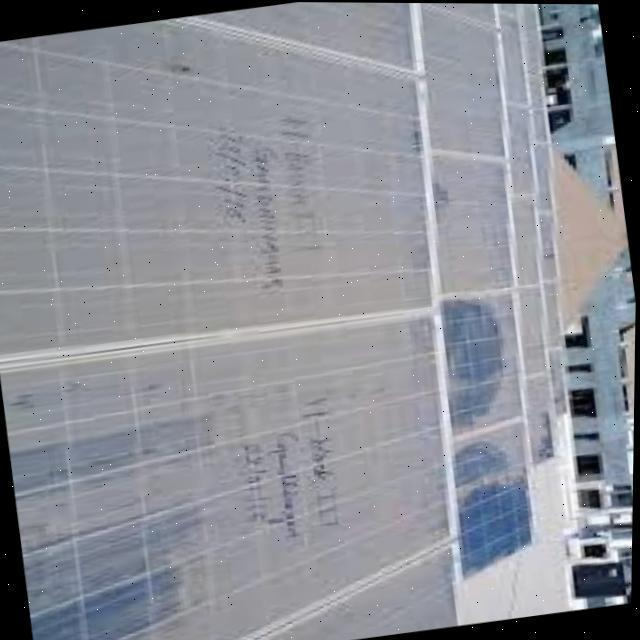Anomaly Solar Panel: (0, 310, 460, 640), (0, 19, 442, 361), (452, 417, 537, 579), (421, 2, 507, 154), (430, 150, 518, 297), (441, 292, 527, 437), (516, 282, 552, 378), (508, 194, 545, 286)
Surface Contaminant: (0, 17, 436, 357), (0, 316, 457, 640), (423, 2, 508, 154), (429, 154, 519, 295), (447, 290, 526, 438), (451, 416, 528, 508), (505, 193, 544, 286), (519, 281, 550, 376)
